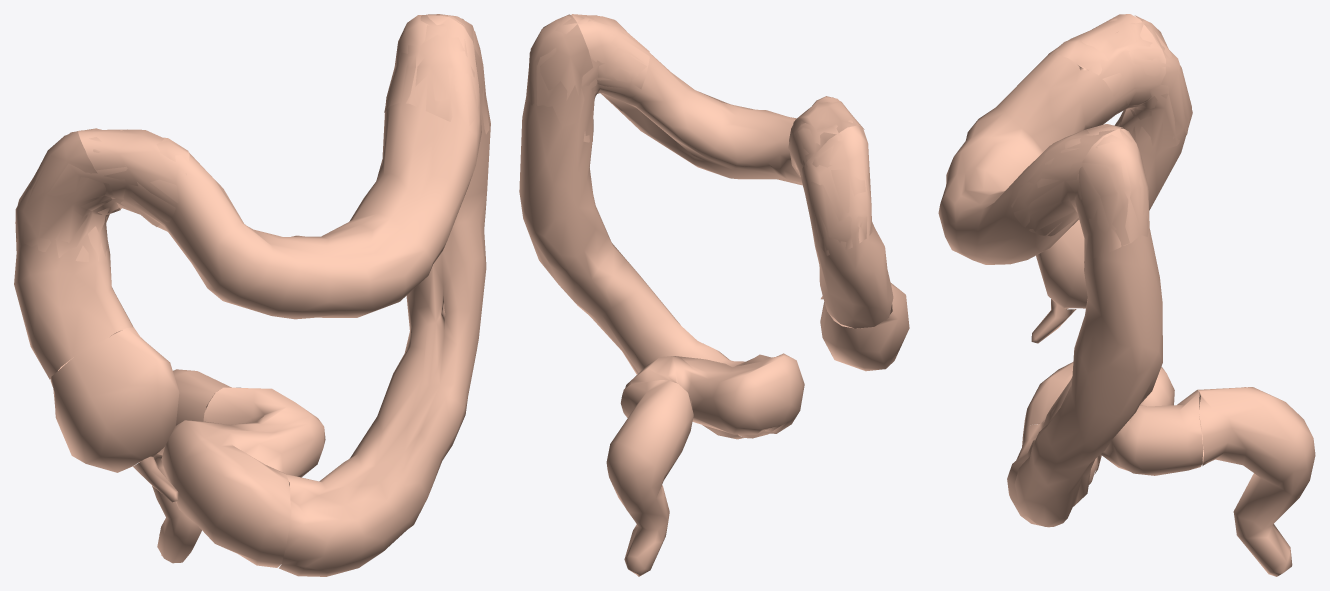
The model's file is sbu_f_intestine_large-20.glb.
3 views of the same model, side by side, from view 1: azimuth 30°, elevation 25°; view 2: azimuth 150°, elevation 25°; view 3: azimuth 270°, elevation 25° (orthographic). The views are drawn at different scales.
Visible parts, largest first — view 1: VH_F_transverse_colon, VH_F_descending_colon, VH_F_sigmoid_colon, VH_F_ascending_colon, VH_F_caecum, VH_F_hepatic_flexure_of_colon, VH_F_rectum, VH_F_splenic_flexure_of_colon, VH_F_vermiform_appendix; view 2: VH_F_descending_colon, VH_F_transverse_colon, VH_F_rectum, VH_F_ascending_colon, VH_F_sigmoid_colon, VH_F_splenic_flexure_of_colon, VH_F_caecum, VH_F_hepatic_flexure_of_colon; view 3: VH_F_descending_colon, VH_F_transverse_colon, VH_F_rectum, VH_F_sigmoid_colon, VH_F_splenic_flexure_of_colon, VH_F_hepatic_flexure_of_colon, VH_F_ascending_colon, VH_F_caecum, VH_F_vermiform_appendix.
Part boxes in pixels (x1,y1,x2,y2): VH_F_transverse_colon: [78, 15, 481, 319]; VH_F_descending_colon: [279, 14, 490, 576]; VH_F_sigmoid_colon: [161, 387, 325, 567]; VH_F_ascending_colon: [14, 131, 133, 379]; VH_F_caecum: [50, 327, 179, 472]; VH_F_hepatic_flexure_of_colon: [15, 128, 189, 261]; VH_F_rectum: [152, 369, 240, 563]; VH_F_splenic_flexure_of_colon: [384, 14, 489, 149]; VH_F_vermiform_appendix: [133, 456, 178, 502]; VH_F_descending_colon: [519, 14, 745, 439]; VH_F_transverse_colon: [571, 14, 864, 185]; VH_F_rectum: [606, 380, 693, 576]; VH_F_ascending_colon: [802, 125, 893, 328]; VH_F_sigmoid_colon: [625, 353, 804, 438]; VH_F_splenic_flexure_of_colon: [526, 15, 649, 142]; VH_F_caecum: [820, 283, 909, 371]; VH_F_hepatic_flexure_of_colon: [789, 96, 873, 255]; VH_F_descending_colon: [1007, 128, 1162, 527]; VH_F_transverse_colon: [938, 14, 1165, 264]; VH_F_rectum: [1198, 387, 1315, 576]; VH_F_sigmoid_colon: [1023, 362, 1203, 475]; VH_F_splenic_flexure_of_colon: [1011, 126, 1149, 262]; VH_F_hepatic_flexure_of_colon: [1043, 17, 1191, 149]; VH_F_ascending_colon: [1114, 15, 1192, 210]; VH_F_caecum: [1036, 220, 1087, 308]; VH_F_vermiform_appendix: [1031, 299, 1076, 343].
Bounding box in the file's own units: 0.2432 × 0.2951 × 0.1941.
